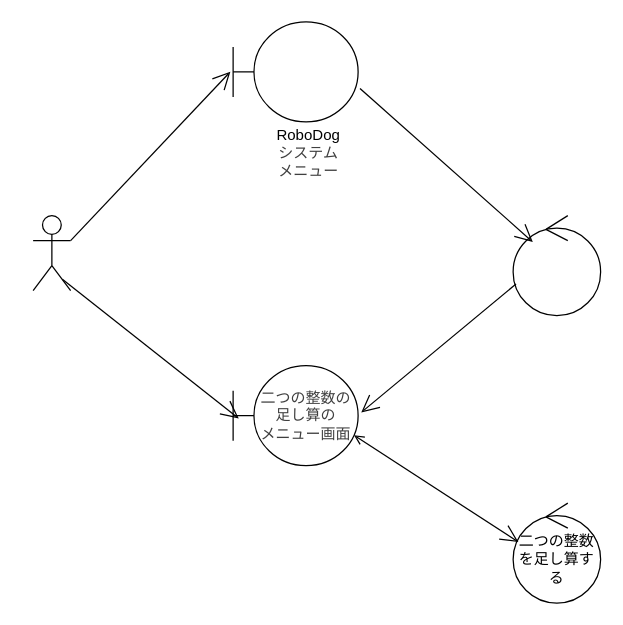
Some shapes in this 623 by 625 pixel diagram are drawn without their labels. Here are the shapes that lost their labels. From the top down, the box of each, then its label:
(32, 214, 71, 291): ユーザー
(512, 214, 601, 316): 足し算の画面を表示
